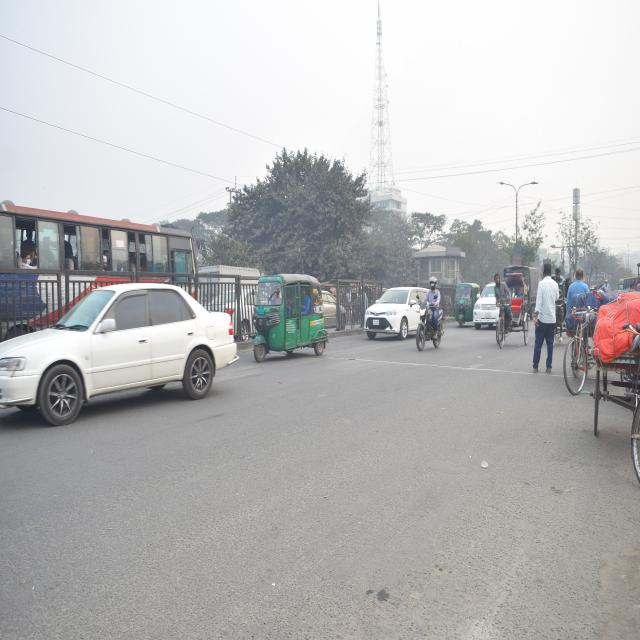bus: (0, 209, 204, 294), (276, 190, 278, 204)
car: (0, 267, 236, 415), (362, 282, 421, 346), (209, 283, 262, 335), (474, 268, 499, 339)
motorbike: (420, 277, 457, 363)
pickup-van: (504, 266, 541, 316)
